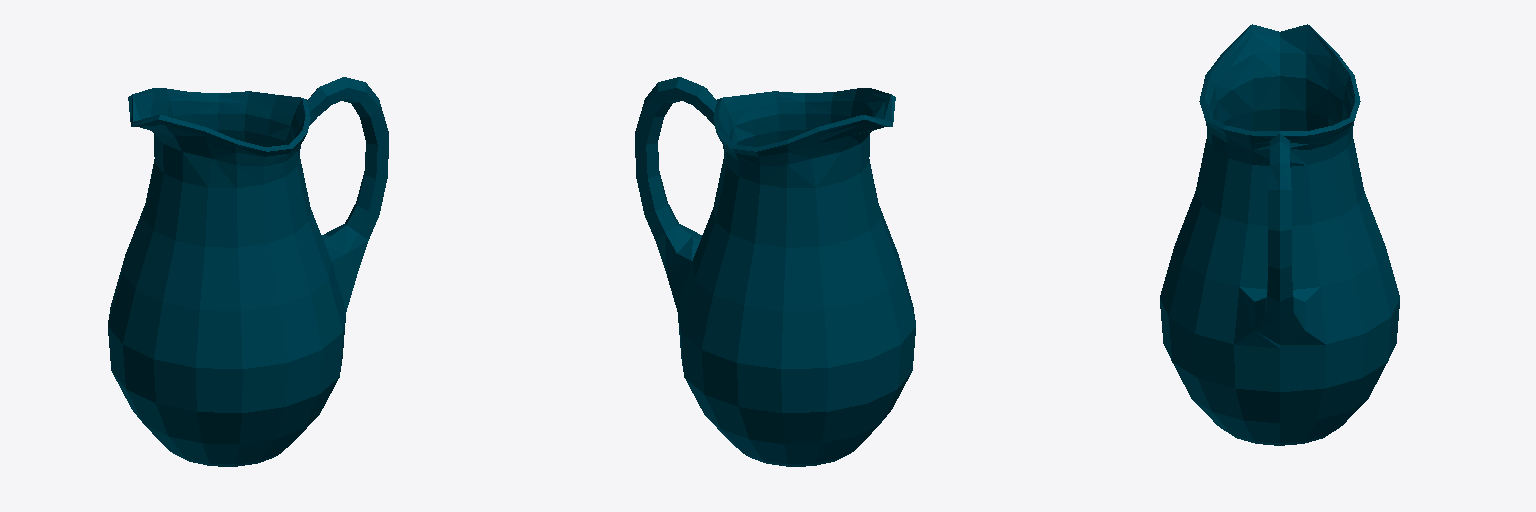
File: jug.obj
3 views of the same model, side by side, from view 1: azimuth 30°, elevation 25°; view 2: azimuth 150°, elevation 25°; view 3: azimuth 270°, elevation 25° (orthographic).
Parts seen in each view (by area): view 1: jug; view 2: jug; view 3: jug.
Boxes of the visible parts, <box> form: jug: <box>108,77,388,466</box>; jug: <box>635,77,915,466</box>; jug: <box>1160,24,1399,445</box>.
Size of the model in its own units: 22.11 by 28.28 by 17.3.